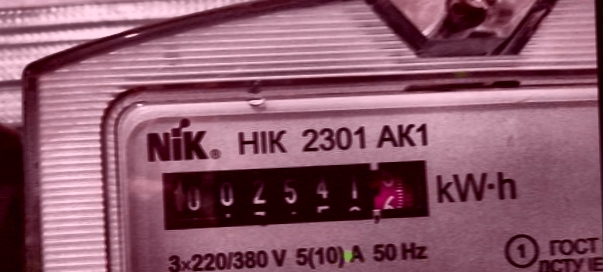0: (215, 177, 235, 210), (184, 184, 202, 213)
1: (343, 169, 360, 203)
2: (246, 174, 268, 209)
4: (312, 171, 330, 203)
5: (280, 175, 297, 208)
6: (379, 192, 395, 213)
screen: (146, 146, 449, 247)
